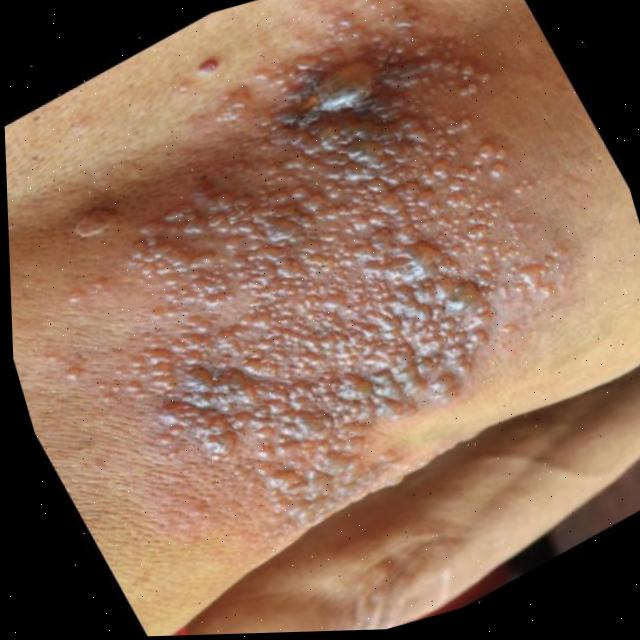Shingles: (15, 0, 618, 569)
